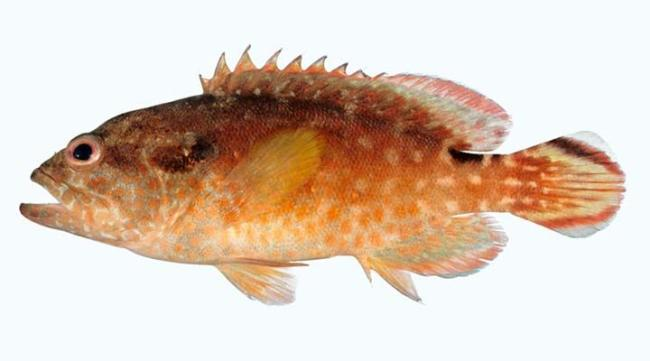fish: (19, 46, 626, 304)
